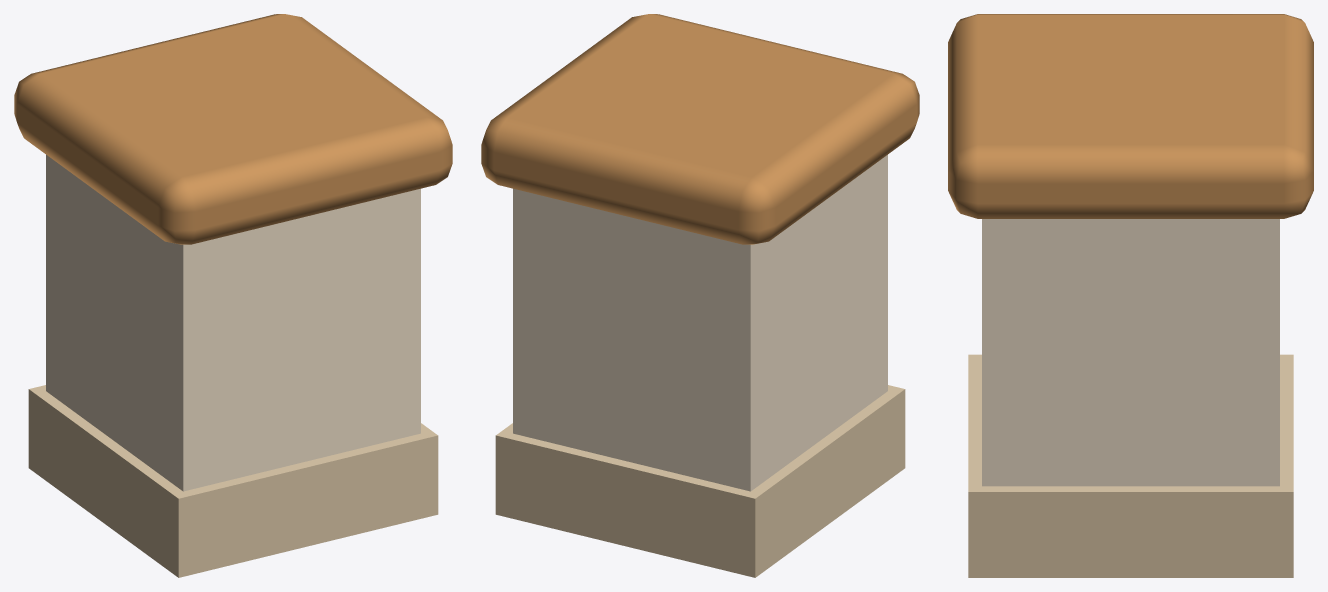
Rendered from wg_pfosten_sockel.glb.
3 views of the same model, side by side, from view 1: azimuth 30°, elevation 25°; view 2: azimuth 150°, elevation 25°; view 3: azimuth 270°, elevation 25° (orthographic). The views are drawn at different scales.
Parts seen in each view (by area): view 1: wg_pfosten_sockel; view 2: wg_pfosten_sockel; view 3: wg_pfosten_sockel.
Part boxes in pixels (x1,y1,x2,y2): wg_pfosten_sockel: (14, 14, 452, 577); wg_pfosten_sockel: (481, 14, 919, 577); wg_pfosten_sockel: (948, 14, 1313, 577).
Bounding box in the file's own units: 0.27 × 0.35 × 0.27.
